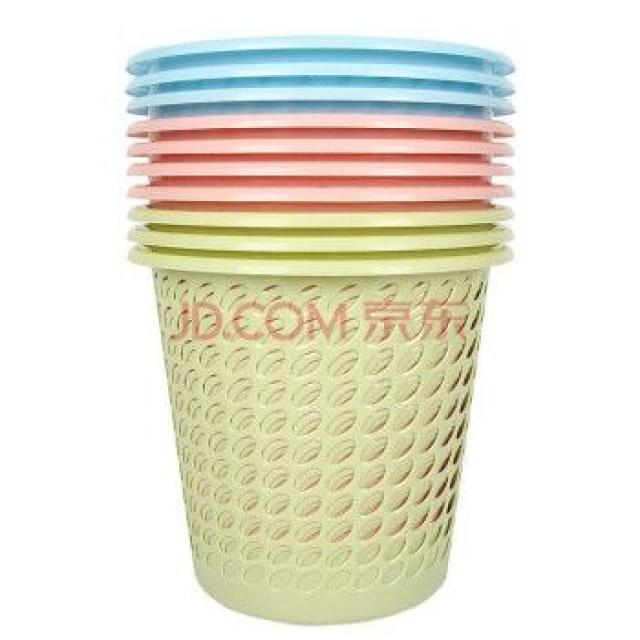Dustbin: (120, 28, 522, 634)
